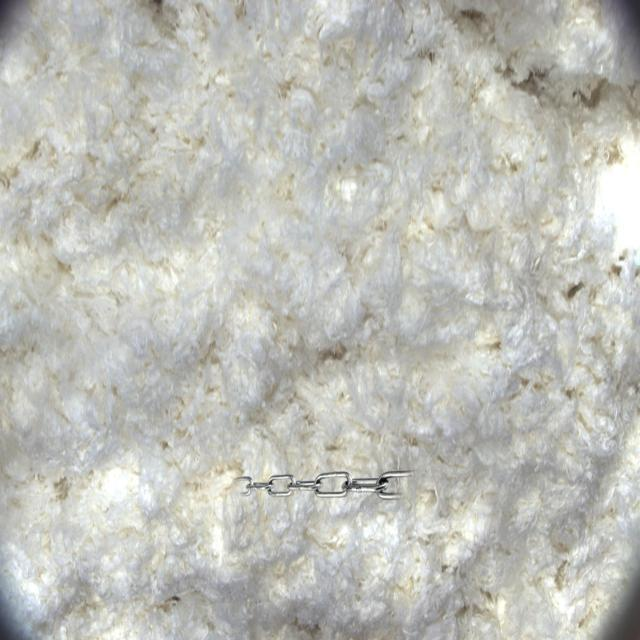dust: (220, 414, 430, 593)
